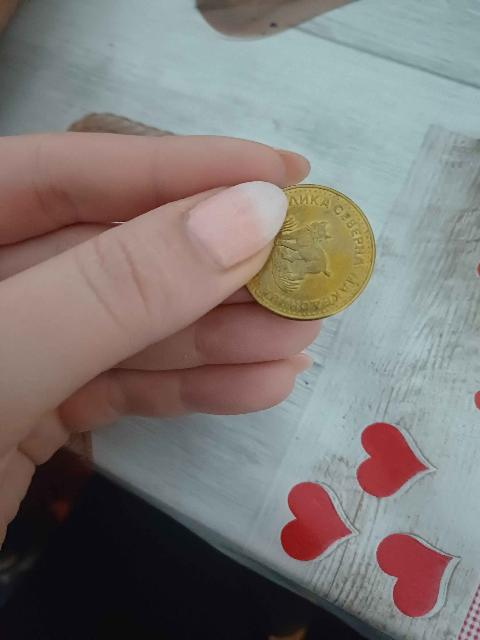5_coin: (247, 185, 375, 319)
